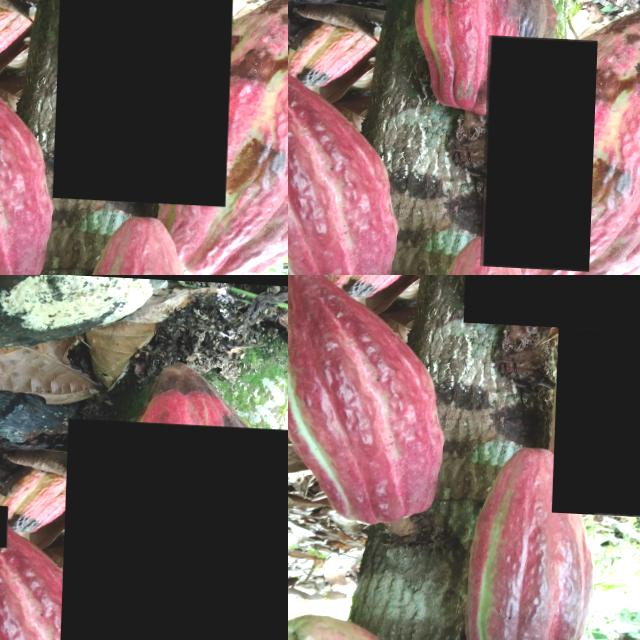Fitoftora: (555, 275, 640, 517), (465, 275, 609, 325), (536, 219, 591, 275)
Monilia: (484, 32, 599, 267)
Sana: (57, 417, 288, 640), (288, 275, 455, 524), (55, 0, 235, 202), (471, 440, 602, 640), (288, 611, 414, 640), (0, 503, 10, 546)
